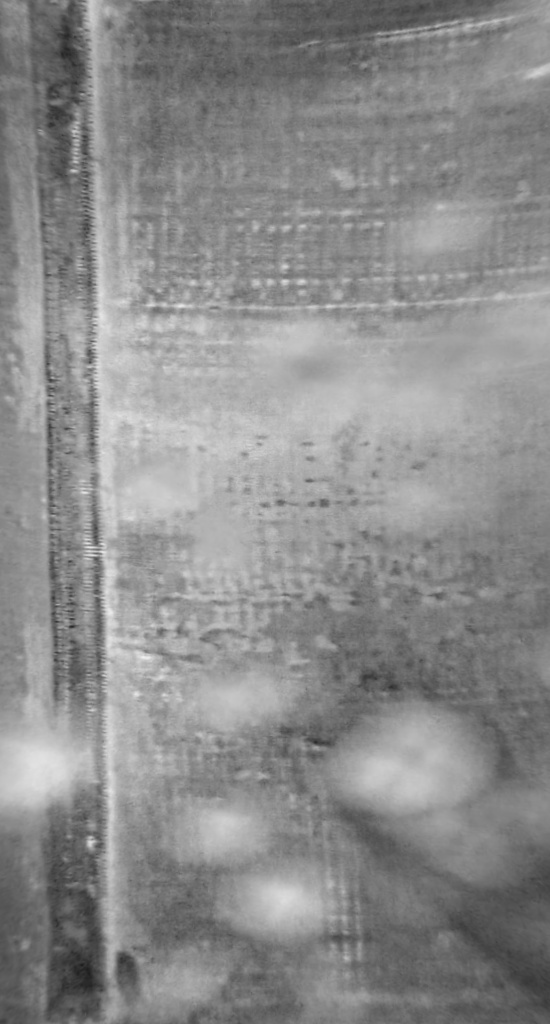splice: (27, 1, 124, 1023)
